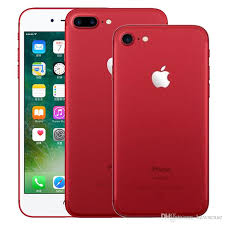iphone: (11, 1, 211, 218), (112, 23, 209, 220)
iphone10: (13, 3, 209, 217), (112, 22, 209, 219)
